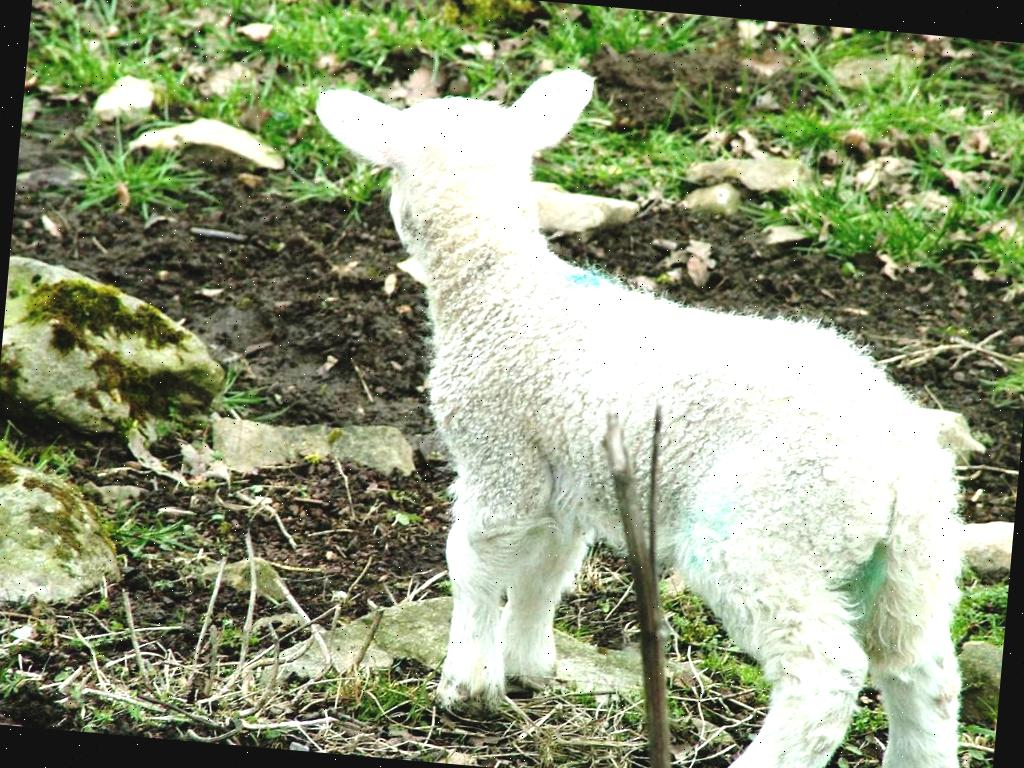Sheep: (259, 47, 1023, 768)
